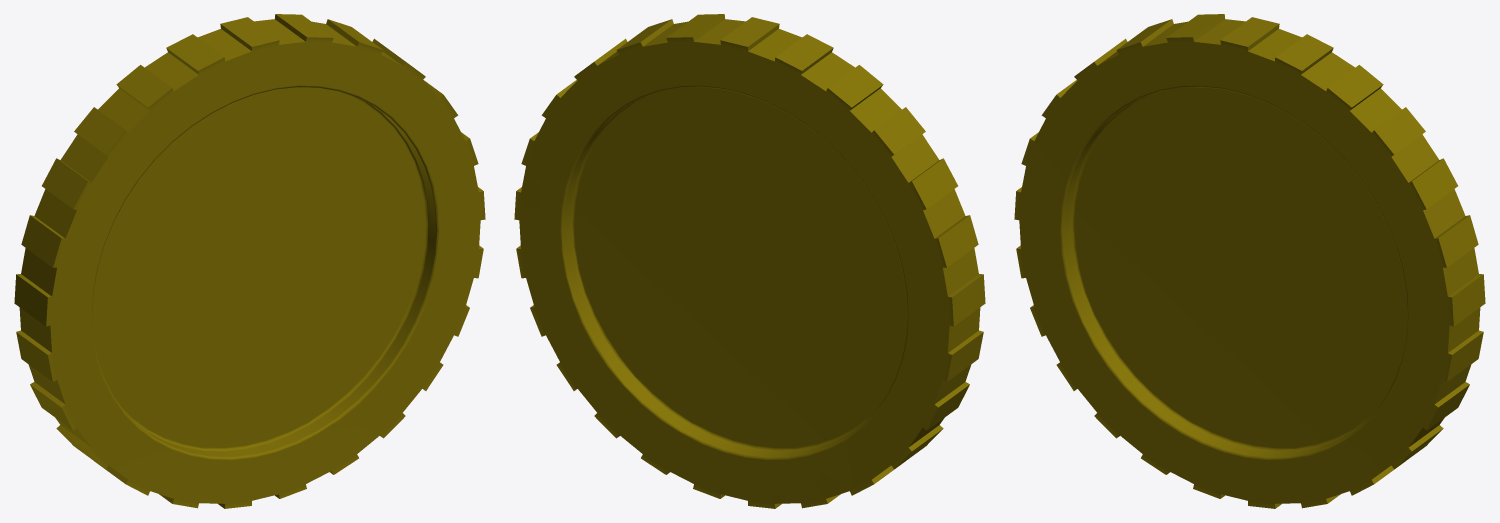
File: Coin.fbx
The picture shows the model from 3 angles, left to right: view 1: azimuth 30°, elevation 25°; view 2: azimuth 150°, elevation 25°; view 3: azimuth 330°, elevation 25°; orthographic projection.
Parts seen in each view (by area): view 1: pCylinder2; view 2: pCylinder2; view 3: pCylinder2.
Boxes of the visible parts, x1,y1,x2,y2 form: pCylinder2: (14, 14, 485, 508); pCylinder2: (514, 14, 985, 508); pCylinder2: (1014, 14, 1485, 508).
Bounding box in the file's own units: 0.0204 × 0.0204 × 0.00255.
